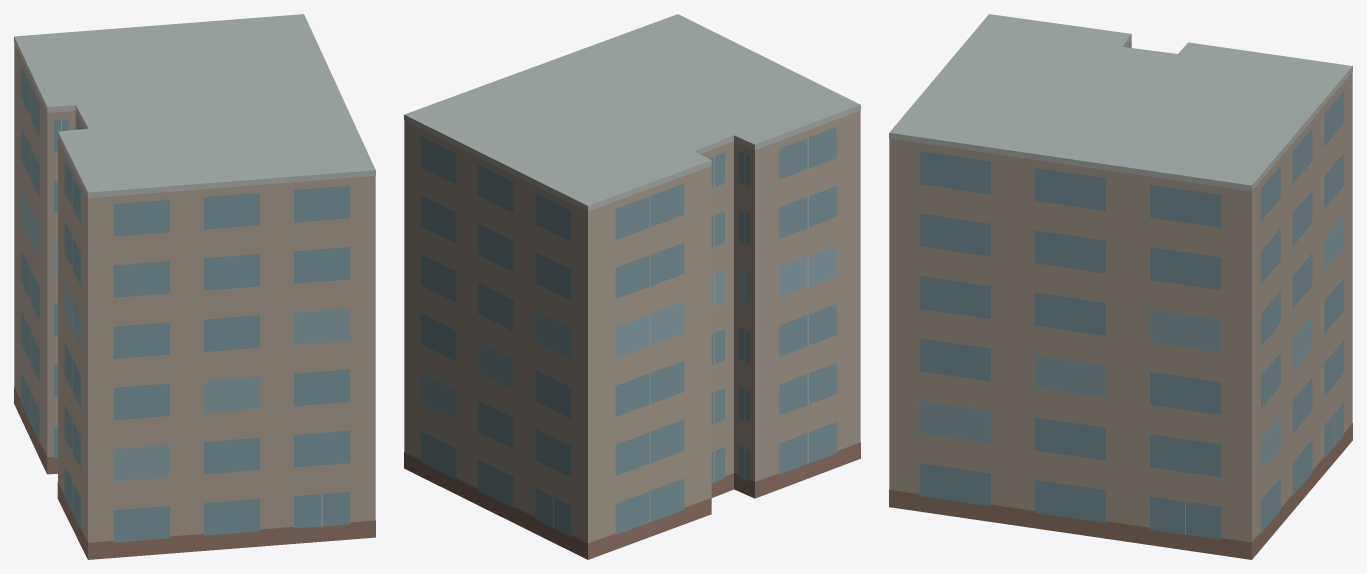
The model's file is survey-upis-32853521.glb.
The picture shows the model from 3 angles, left to right: view 1: azimuth 30°, elevation 25°; view 2: azimuth 150°, elevation 25°; view 3: azimuth 270°, elevation 25°; orthographic projection. The views are drawn at different scales.
Parts seen in each view (by area): view 1: survey-upis-32853521.tmp; view 2: survey-upis-32853521.tmp; view 3: survey-upis-32853521.tmp.
Part boxes in pixels (x1,y1,x2,y2): survey-upis-32853521.tmp: (14, 14, 375, 559); survey-upis-32853521.tmp: (404, 14, 860, 559); survey-upis-32853521.tmp: (889, 14, 1352, 559).
Bounding box in the file's own units: 15.44 × 15.7 × 17.63.
